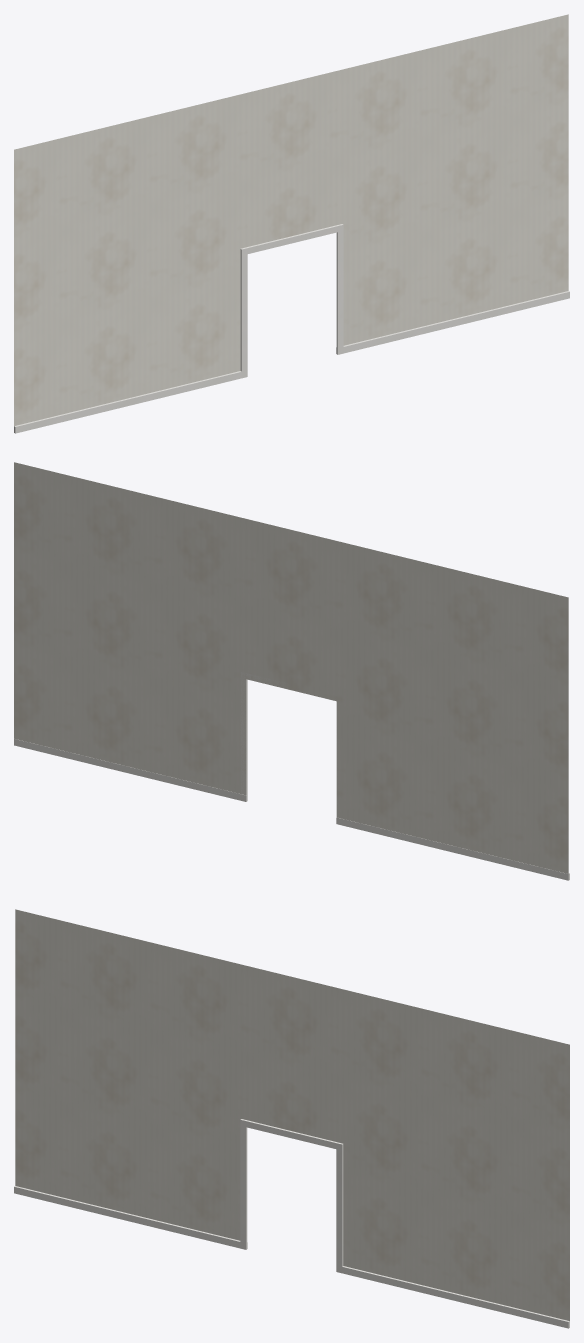
3 renders of one model, top to bottom at view 1: azimuth 30°, elevation 25°; view 2: azimuth 150°, elevation 25°; view 3: azimuth 330°, elevation 25°, orthographic.
Visible parts, largest first — view 1: jx_wm_12_be7d6ad6; view 2: jx_wm_12_be7d6ad6; view 3: jx_wm_12_be7d6ad6.
Boxes of the visible parts, left/top/right/bottom form: jx_wm_12_be7d6ad6: left=14, top=14, right=569, bottom=433; jx_wm_12_be7d6ad6: left=14, top=462, right=569, bottom=880; jx_wm_12_be7d6ad6: left=14, top=909, right=569, bottom=1328.
Size of the model in its own units: 12.3 by 6 by 0.05.
2 materials, 2 textured.
